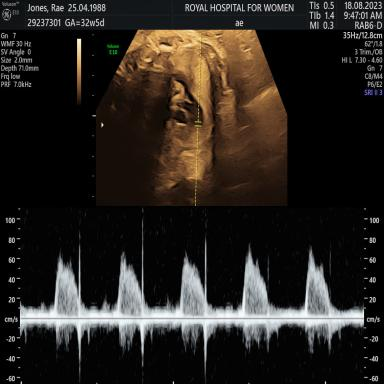Ultrasound-Waves: (23, 209, 363, 384)
